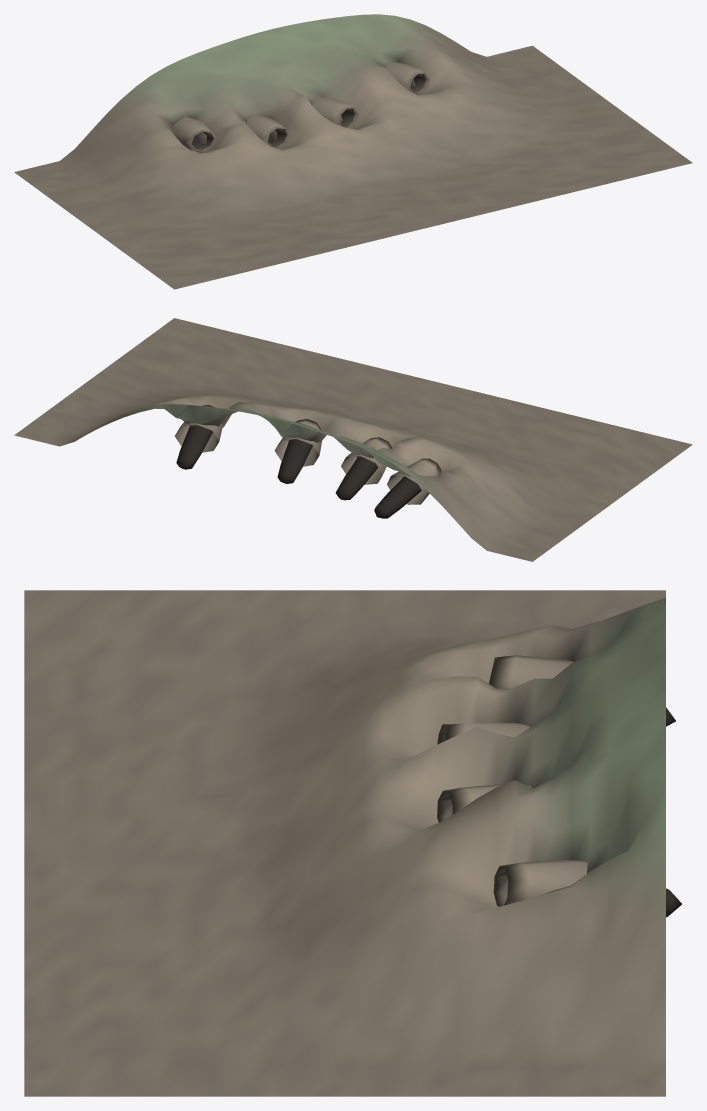
File: warren_bank_lo.glb
3 renders of one model, top to bottom at view 1: azimuth 30°, elevation 25°; view 2: azimuth 150°, elevation 25°; view 3: azimuth 270°, elevation 25°, orthographic. The views are drawn at different scales.
Visible parts, largest first — view 1: warren_bank_lo; view 2: warren_bank_lo; view 3: warren_bank_lo.
Part boxes in pixels (bbox=[...]): warren_bank_lo: bbox=[14, 14, 692, 289]; warren_bank_lo: bbox=[14, 318, 692, 561]; warren_bank_lo: bbox=[24, 590, 681, 1096].
Size of the model in its own units: 4.2 by 0.6203 by 2.31.
